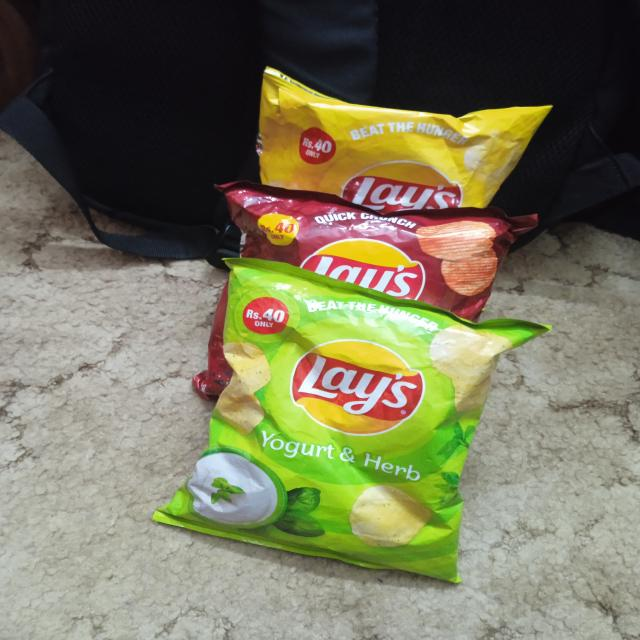Plastic: (150, 310, 548, 592), (207, 174, 544, 291), (248, 62, 566, 176)
